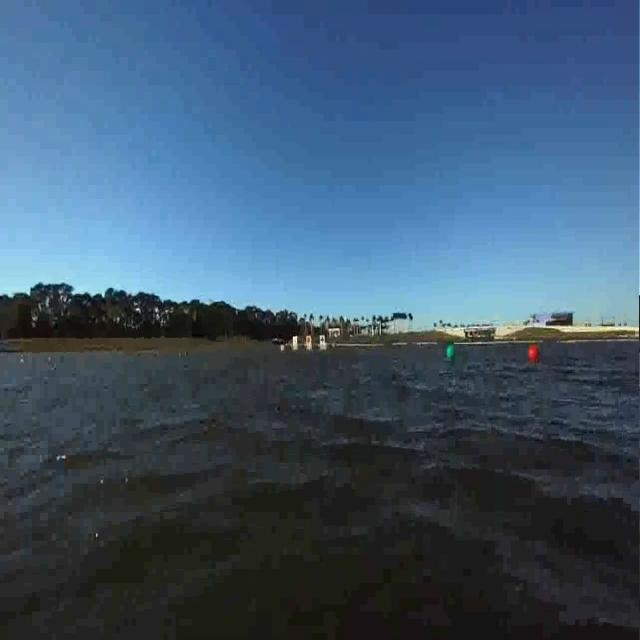green-buoy: (447, 344, 456, 361)
red-buoy: (527, 344, 539, 362)
